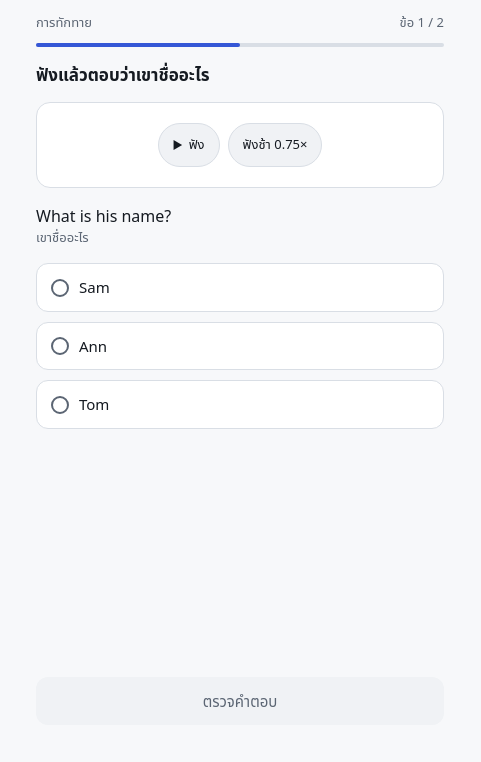
Scenario: LessonPlayer › shows ถูกต้อง for a right answer
Click the radio button labelled "Sam" at coordinates (94, 287), box [36,263,444,312]
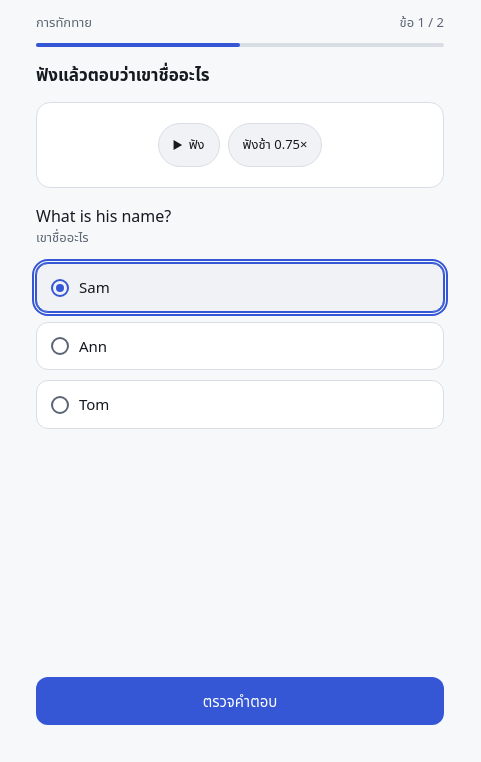
Click the button "ตรวจคำตอบ" at coordinates (240, 701), box [36,676,444,725]
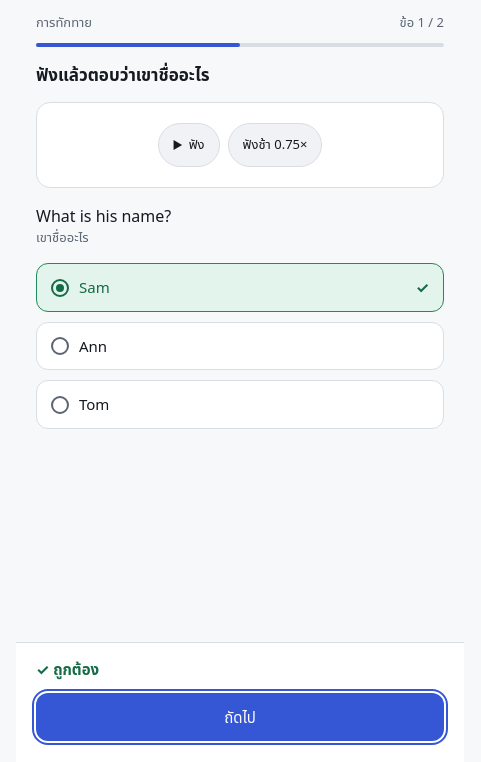
Result: the message shows "ถูกต้อง" at [36,658,99,678]
